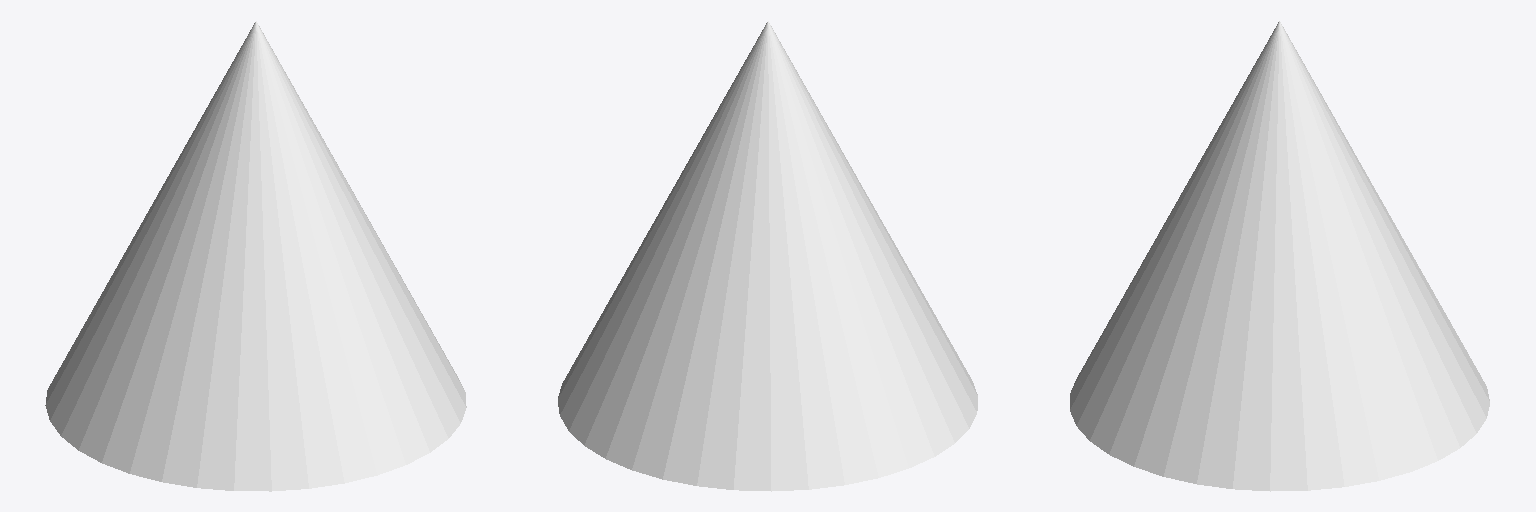
robot.urdf — equilateral_cone:
<?xml version="1.0" encoding="utf-8"?>
<!-- This URDF was automatically created by SolidWorks to URDF Exporter! Originally created by [author] ([email redacted]) 
     Commit Version: 1.5.1-0-g916b5db  Build Version: 1.5.7152.31018
     For more information, please see http://wiki.ros.org/sw_urdf_exporter -->
<robot
  name="equilateral_cone">
  <link
    name="cone">
    <inertial>
      <origin
        xyz="0 5.21738971138986E-19 0.0125"
        rpy="0 0 0" />
      <mass
        value="0.033379" />
      <inertia
        ixx="6.2586E-06"
        ixy="-7.1998E-22"
        ixz="-4.40846041312518E-38"
        iyy="6.2586E-06"
        iyz="-7.4031E-22"
        izz="6.2586E-06" />
    </inertial>
    <visual>
      <origin
        xyz="0 0 0"
        rpy="1.5707963267949 0 0" />
      <geometry>
        <mesh
          filename="package://cone/meshes/cone.STL" />
      </geometry>
      <material
        name="">
        <color
          rgba="1 1 1 1" />
        <texture
          filename="package://cone/textures/" />
      </material>
    </visual>
    <collision>
      <origin
        xyz="0 0 0"
        rpy="1.5707963267949 0 0" />
      <geometry>
        <mesh
          filename="package://cone/meshes/cone.STL" />
      </geometry>
    </collision>
  </link>
</robot>

--- What the picture shows (computed from the rendered views, not written in the file) ---
Views: 3 orthographic renders of the robot side by side, from view 1: azimuth 30°, elevation 25°; view 2: azimuth 150°, elevation 25°; view 3: azimuth 270°, elevation 25°.
Robot: equilateral_cone — 1 links, 0 joints (none); root link cone; default pose: all joints at 0.
Links seen in each view (by area): view 1: cone; view 2: cone; view 3: cone.
Boxes of the visible links, x1,y1,x2,y2 form: cone: [45, 21, 466, 491]; cone: [558, 21, 977, 491]; cone: [1070, 21, 1489, 491].
Size in the robot's own frame: 0.0499 by 0.0499 by 0.05 metres.
1 mesh visuals loaded from 1 distinct referenced files (1 binary STL).